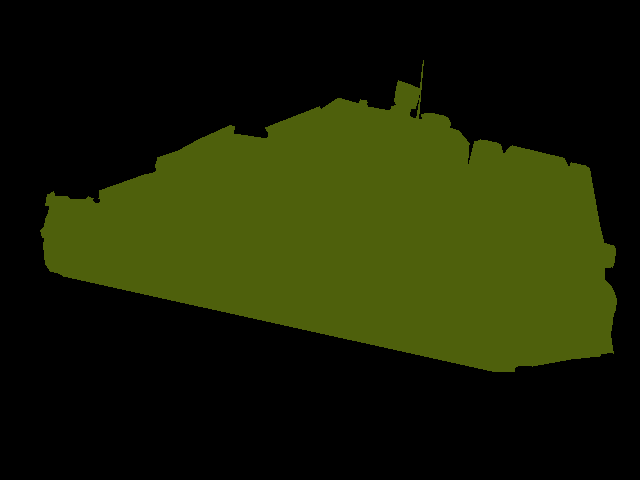Train: (40, 60, 617, 372)
